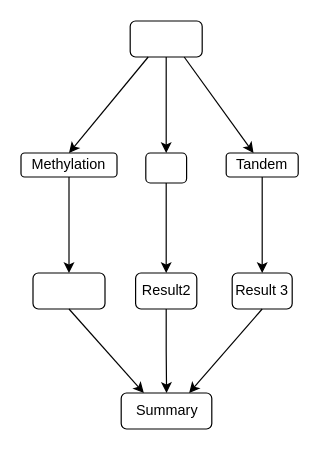
The diagram is 319 pixels wide and 450 high, and some of its shapes have lost their labels. The shapes that lost their labels are listed below. From the top down, each one's box as (x1, y1, x2, y2) in pixels, then its label:
(129, 20, 202, 57): FASTQ
(145, 152, 187, 183): SV
(32, 272, 105, 309): Result 1
